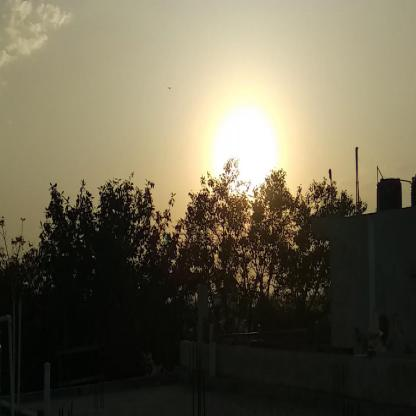other: (201, 75, 285, 231)
